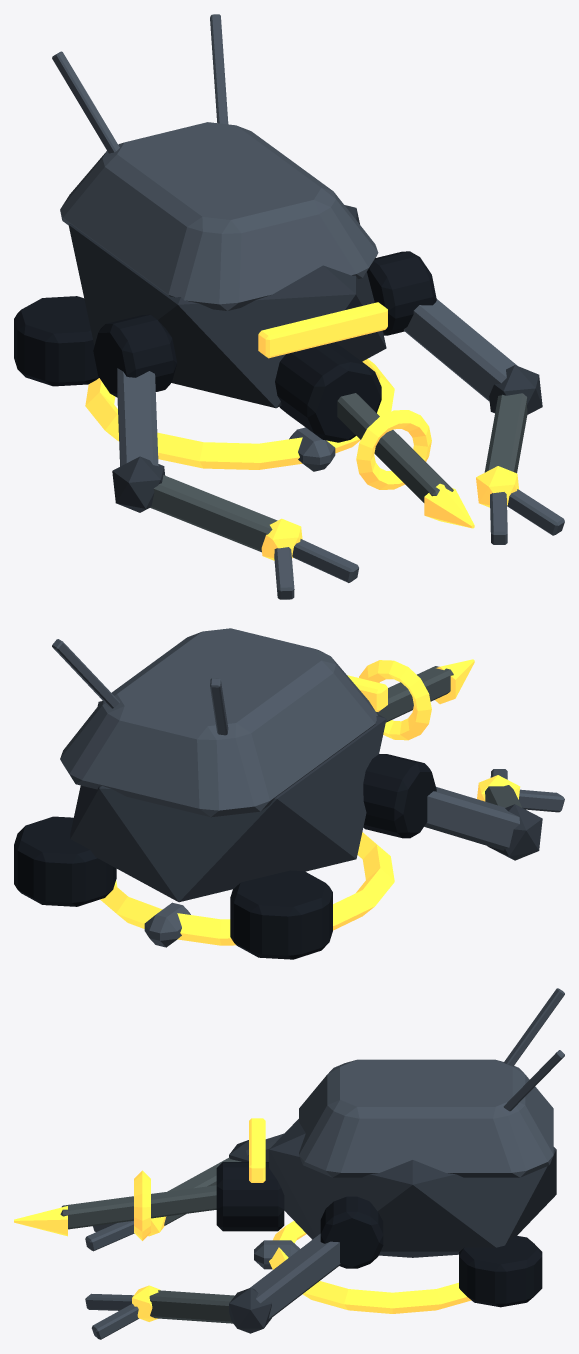
Rendered from m_engineer.glb.
3 renders of one model, top to bottom at view 1: azimuth 30°, elevation 25°; view 2: azimuth 150°, elevation 25°; view 3: azimuth 270°, elevation 25°, orthographic. The views are drawn at different scales.
Parts seen in each view (by area): view 1: Infiltrator shell, Lift assembly; view 2: Infiltrator shell, Lift assembly; view 3: Infiltrator shell, Lift assembly.
Boxes of the visible parts, x1,y1,x2,y2 form: Infiltrator shell: (14, 14, 564, 599); Lift assembly: (85, 358, 394, 471); Infiltrator shell: (14, 628, 564, 959); Lift assembly: (100, 832, 394, 947); Infiltrator shell: (14, 988, 564, 1339); Lift assembly: (254, 1221, 471, 1313).
Size of the model in its own units: 1.17 by 0.8626 by 1.63.
